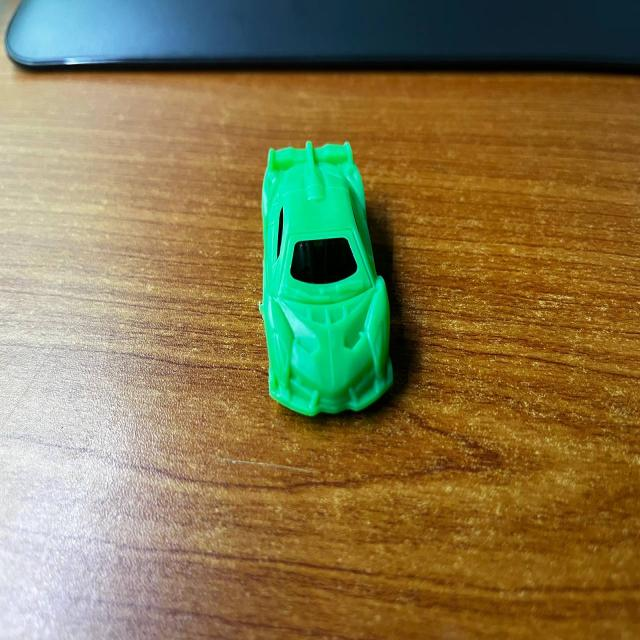car: (241, 133, 417, 450)
